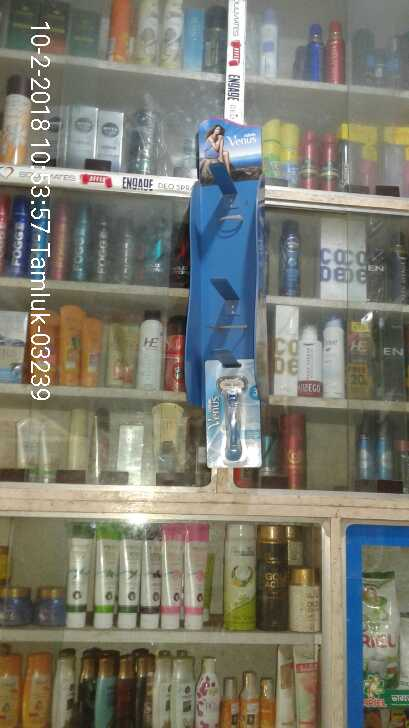venus: (207, 355, 259, 475)
